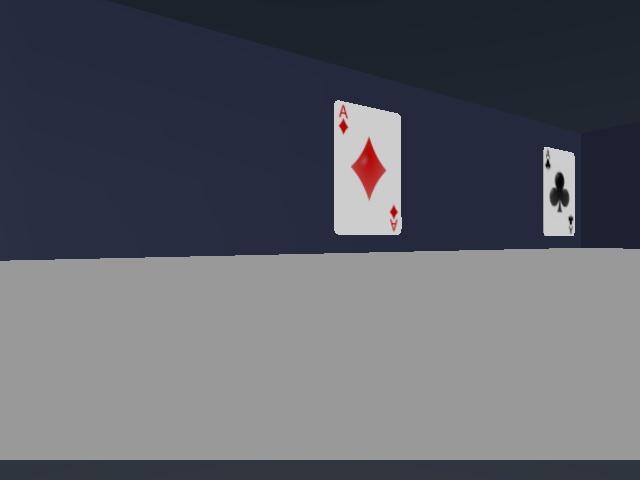club: (543, 147, 575, 235)
diamond: (334, 101, 401, 234)
